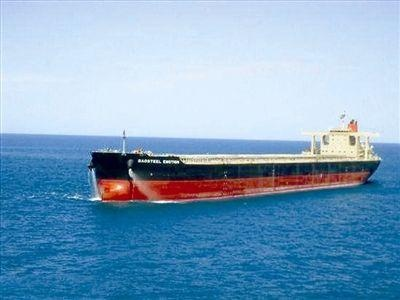Cargoship: (88, 113, 383, 211)
